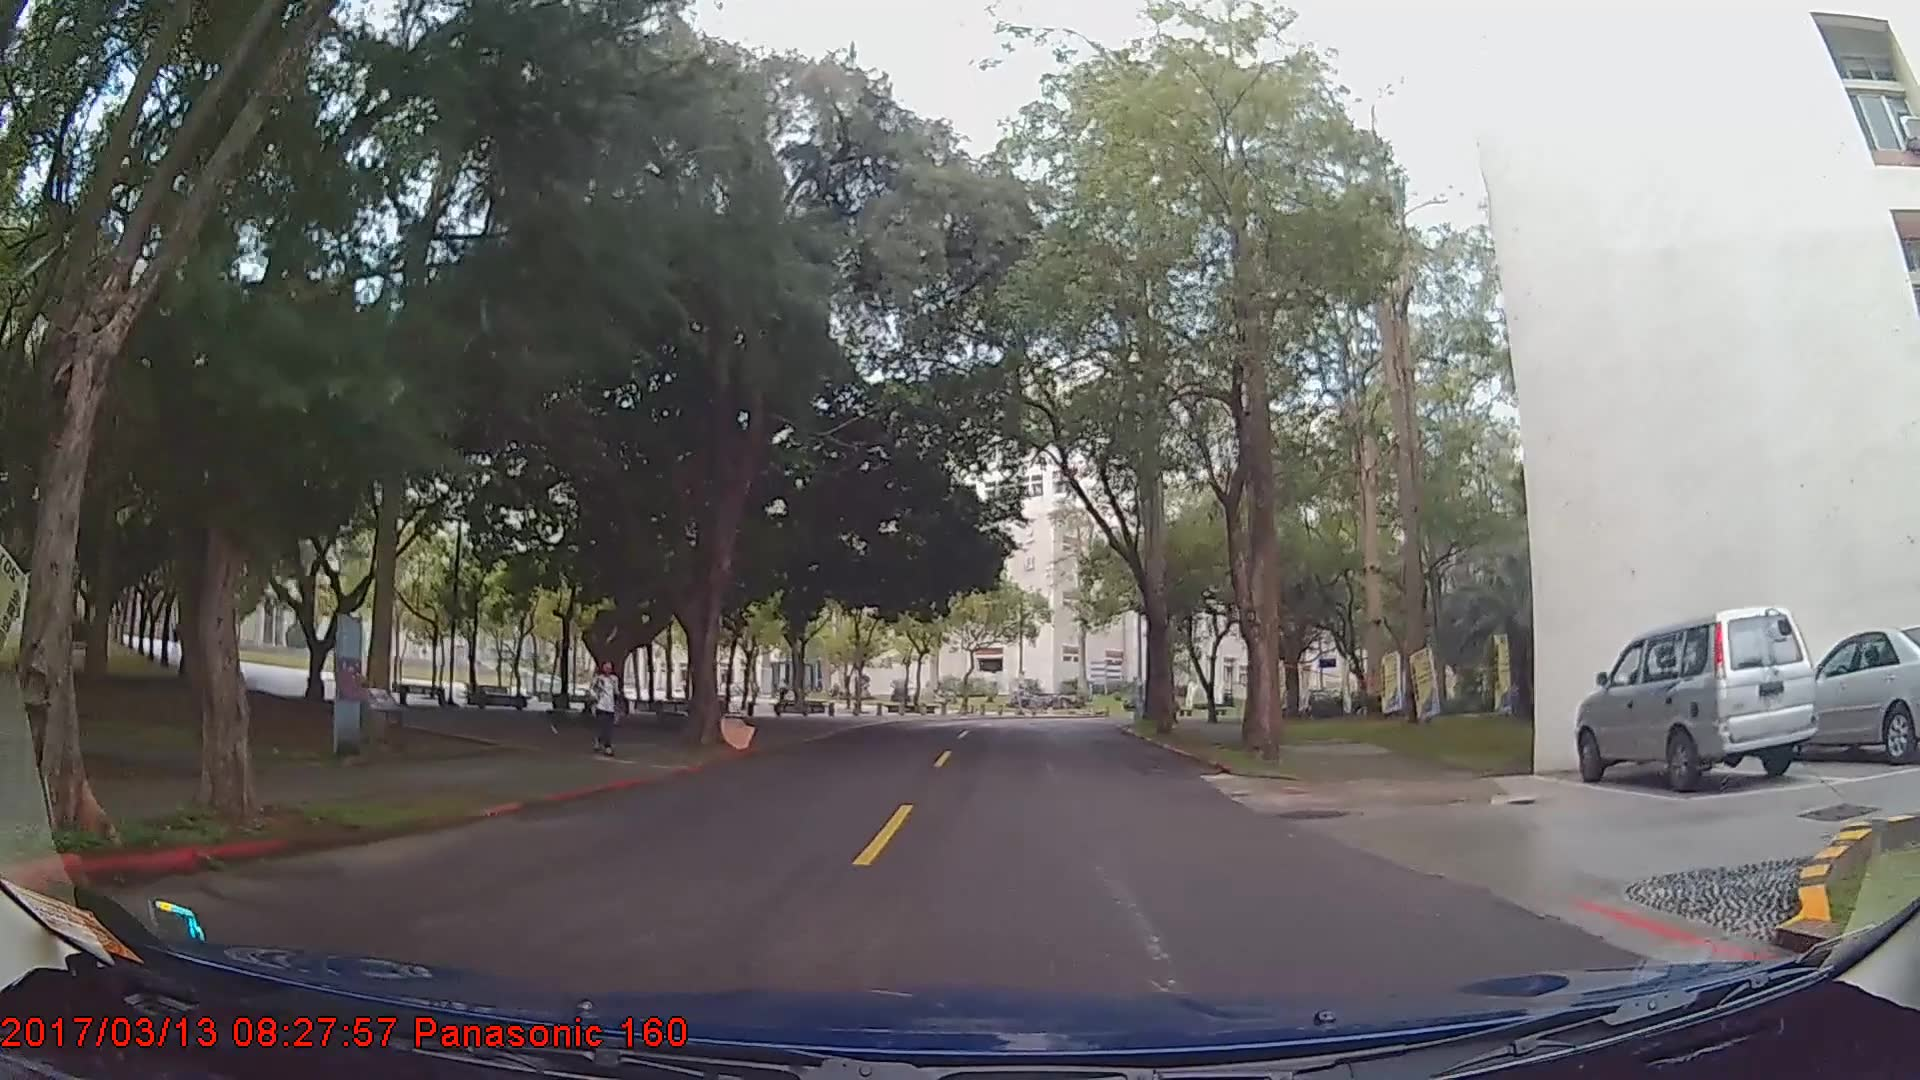pedestrian: (587, 656, 627, 759)
vehicle: (1574, 607, 1816, 793), (1770, 625, 1920, 765)
